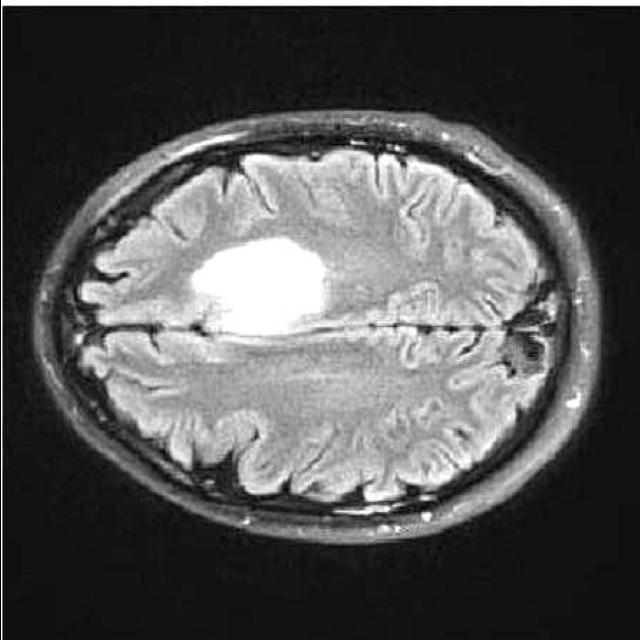tumor: (187, 236, 324, 338)
